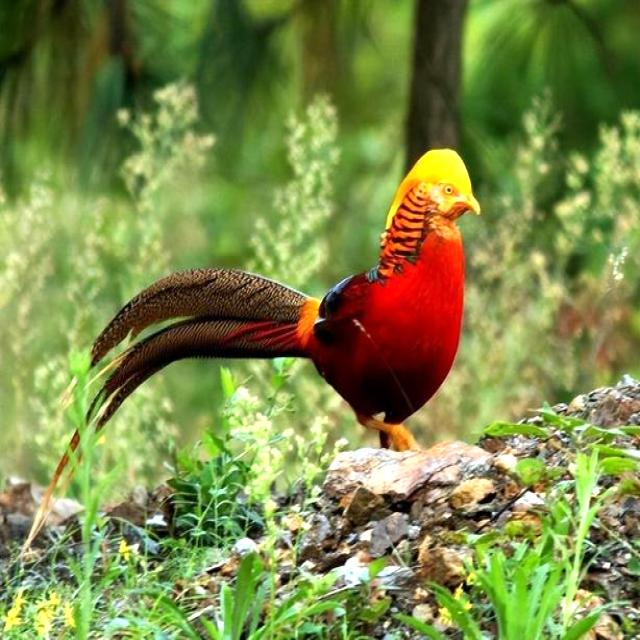Chrysolophus pictus feather: (72, 268, 318, 435)
